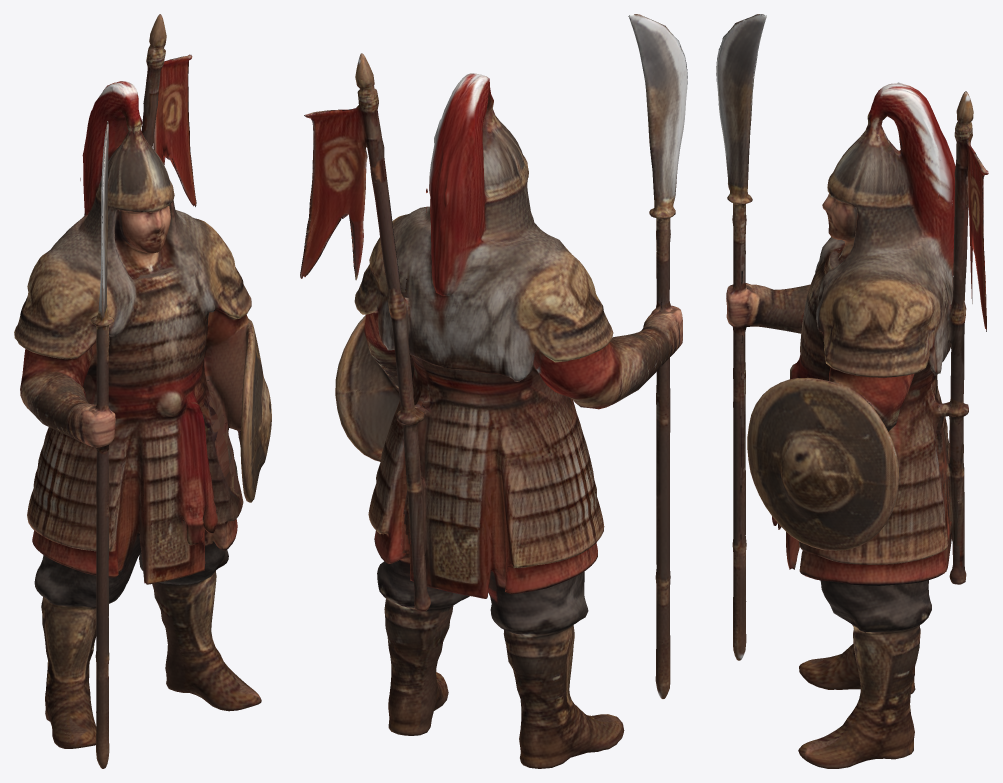
Rendered from look-armor-t2-rodin.glb.
3 views of the same model, side by side, from view 1: azimuth 30°, elevation 25°; view 2: azimuth 150°, elevation 25°; view 3: azimuth 270°, elevation 25° (orthographic). The views are drawn at different scales.
Visible parts, largest first — view 1: model; view 2: model; view 3: model.
Boxes of the visible parts, x1,y1,x2,y2 form: model: (14,14,271,768); model: (300,14,687,768); model: (716,14,988,768).
Size of the model in its own units: 0.7745 by 1.9 by 0.7041.
Materials: 1 (1 with a texture image).
